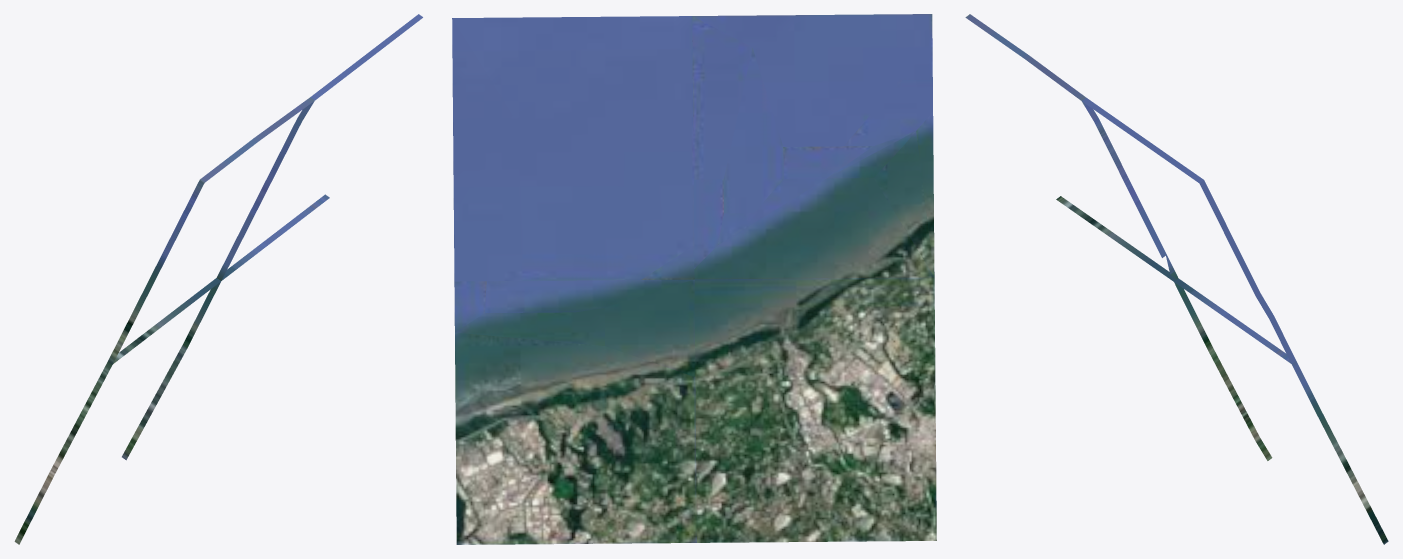
The picture shows the model from 3 angles, left to right: view 1: azimuth 30°, elevation 25°; view 2: azimuth 150°, elevation 25°; view 3: azimuth 270°, elevation 25°; orthographic projection. The views are drawn at different scales.
Size of the model in its own units: 9849 by 8876 by 8269.
1 material, 1 textured.
